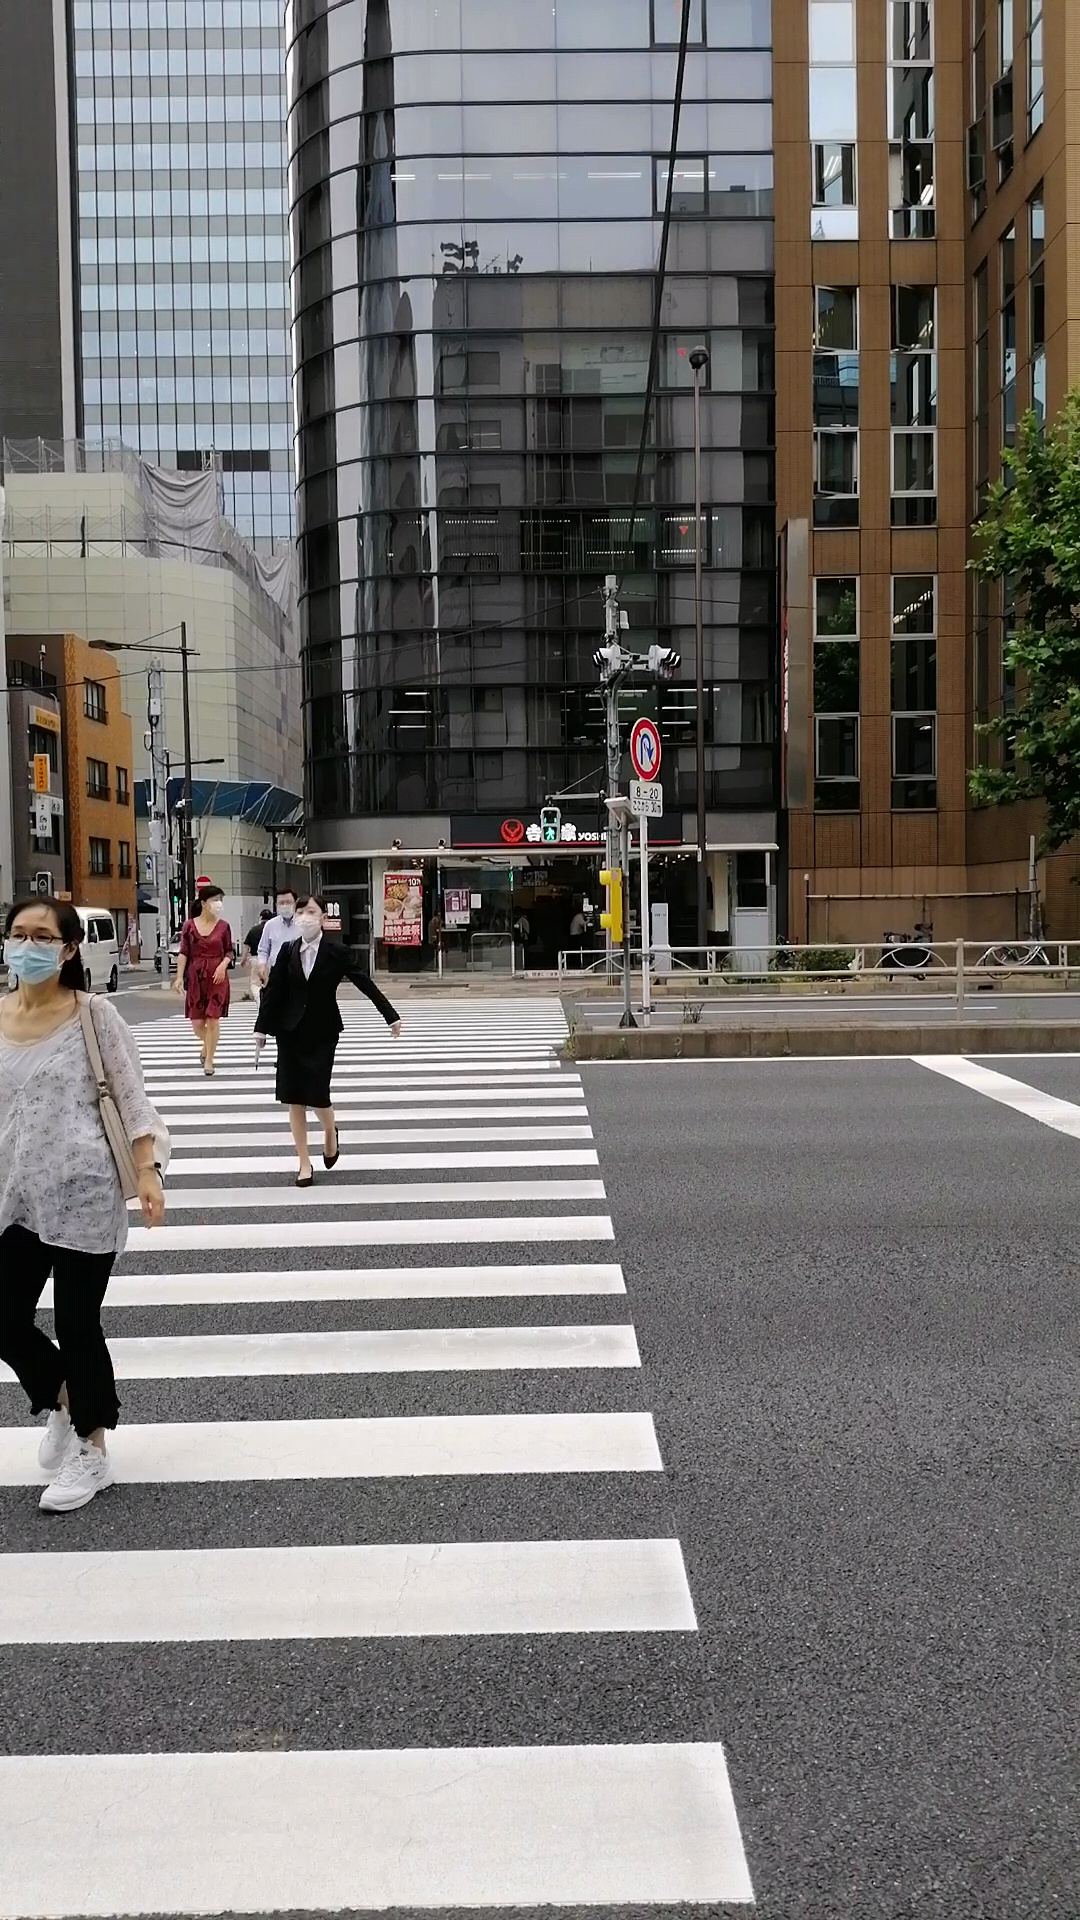green: (538, 804, 559, 844)
